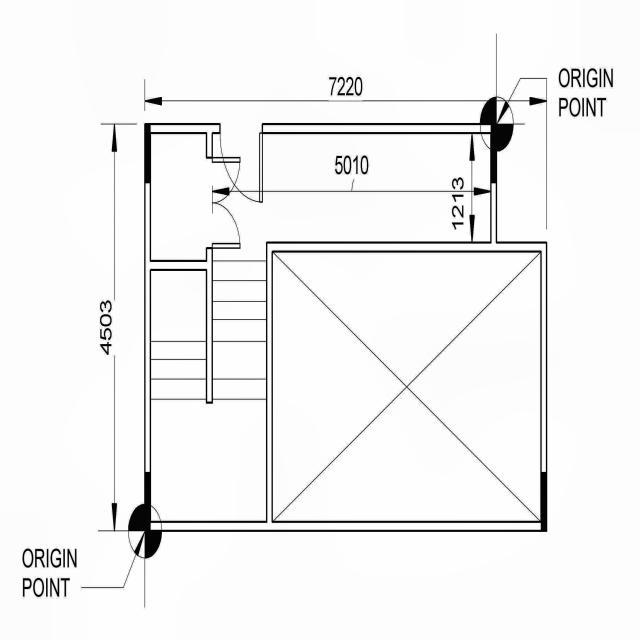Column: (143, 469, 152, 534), (143, 122, 152, 185), (540, 470, 548, 532), (490, 124, 498, 184)
Door: (218, 115, 272, 208)
Double-Door: (204, 156, 244, 250)
Staircase: (147, 250, 270, 408)
